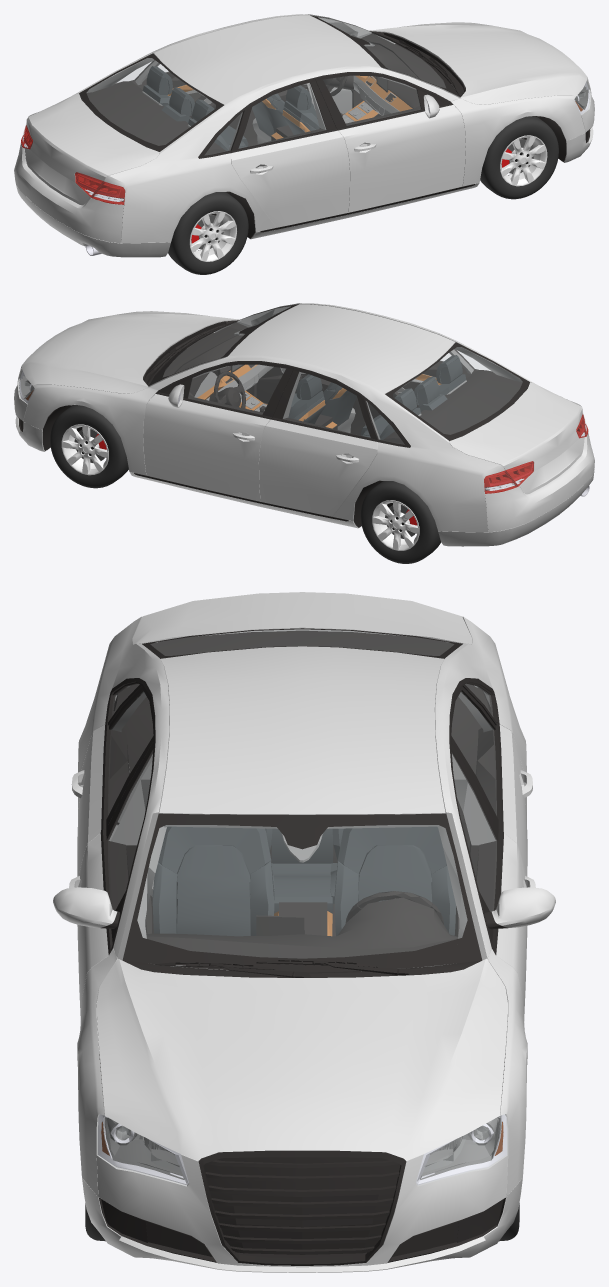
The model's file is SEDAN26.obj.
3 views of the same model, one above another, from view 1: azimuth 30°, elevation 25°; view 2: azimuth 150°, elevation 25°; view 3: azimuth 270°, elevation 25° (orthographic). The views are drawn at different scales.
Parts seen in each view (by area): view 1: 26; view 2: 26; view 3: 26.
Part boxes in pixels (x1,y1,x2,y2): 26: [14, 14, 594, 274]; 26: [14, 303, 594, 563]; 26: [53, 592, 555, 1272].
Size of the model in its own units: 5.01 by 1.46 by 2.06.
